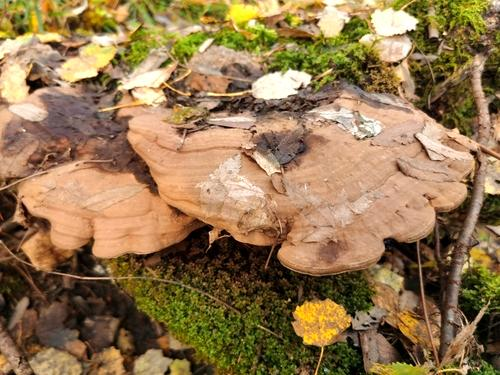Ganoderma - Fruit Body: (128, 88, 475, 273), (19, 96, 125, 260)
